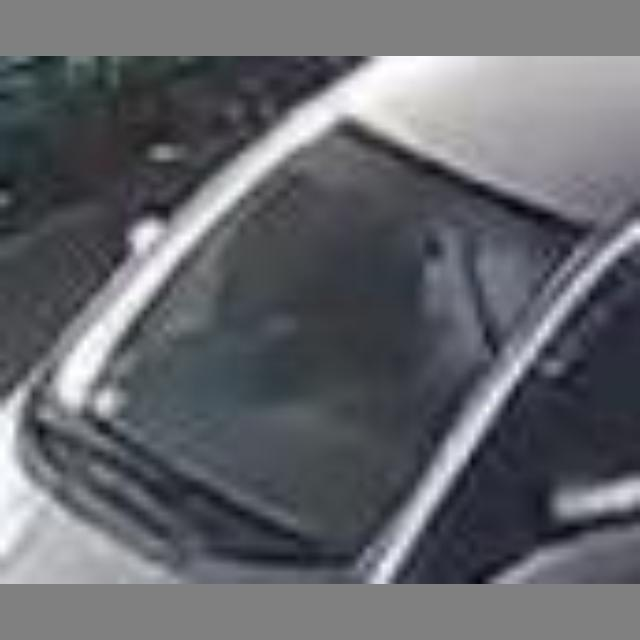pakai: (380, 212, 536, 391)
